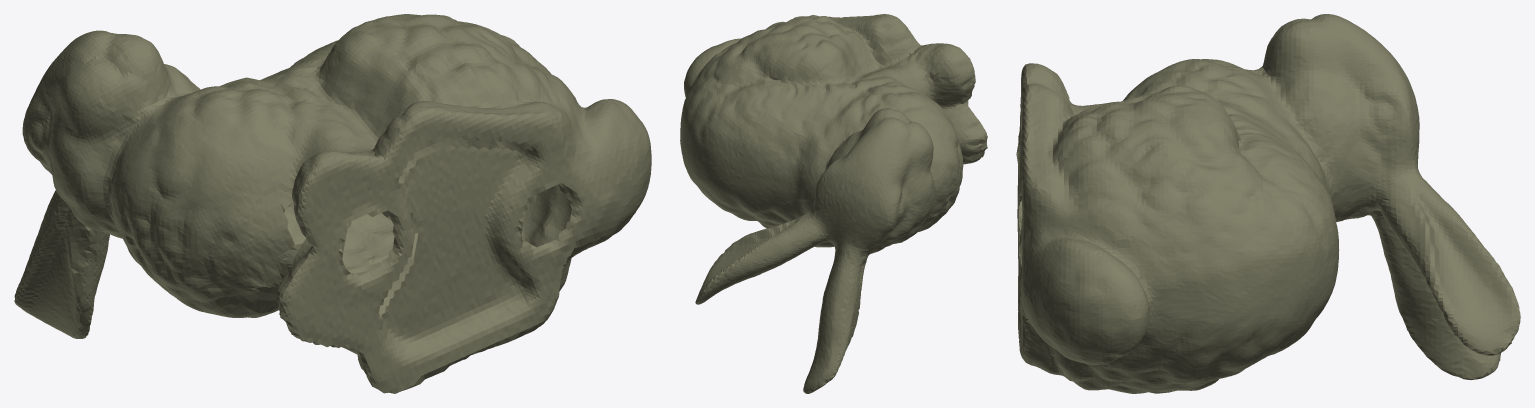
The model's file is bunny.glb.
3 renders of one model, left to right at view 1: azimuth 30°, elevation 25°; view 2: azimuth 150°, elevation 25°; view 3: azimuth 270°, elevation 25°, orthographic. The views are drawn at different scales.
Parts seen in each view (by area): view 1: bunny; view 2: bunny; view 3: bunny.
Boxes of the visible parts, bbox=[...] form: bunny: bbox=[14, 14, 651, 393]; bunny: bbox=[680, 14, 987, 393]; bunny: bbox=[1016, 14, 1520, 393].
Size of the model in its own units: 0.000156 by 0.000121 by 0.000154.
